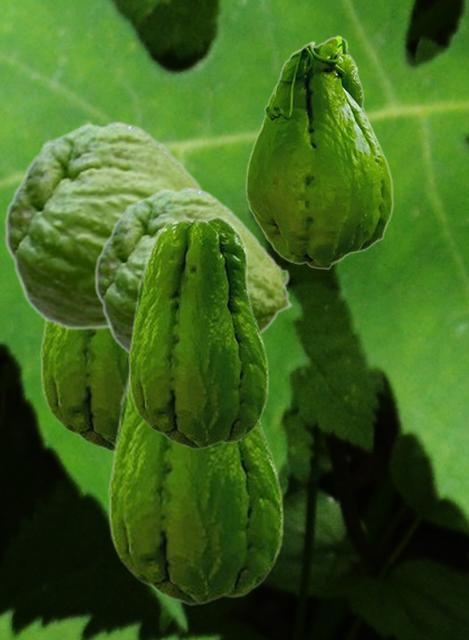sayote: (4, 120, 209, 330), (108, 364, 283, 605), (245, 35, 393, 269), (94, 186, 293, 355), (128, 215, 268, 449), (40, 320, 127, 451)
